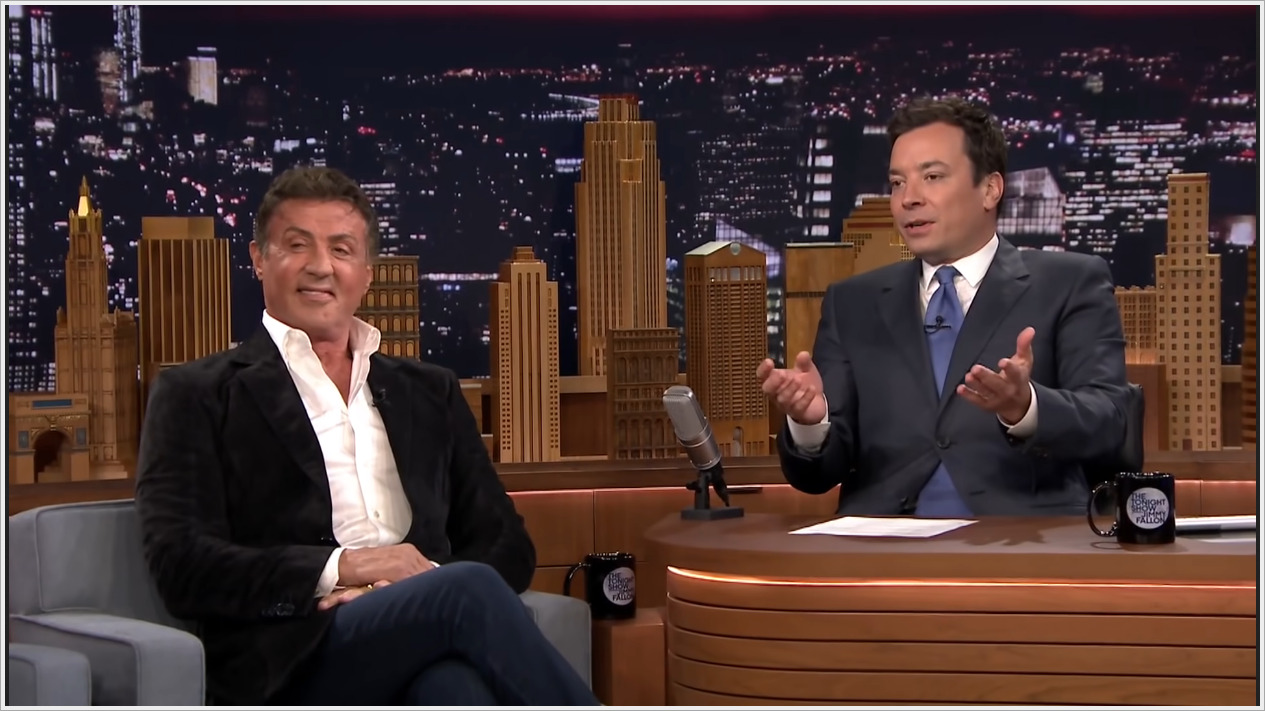hand: (952, 321, 1044, 424), (755, 350, 829, 424), (335, 542, 435, 585), (315, 582, 380, 610)
